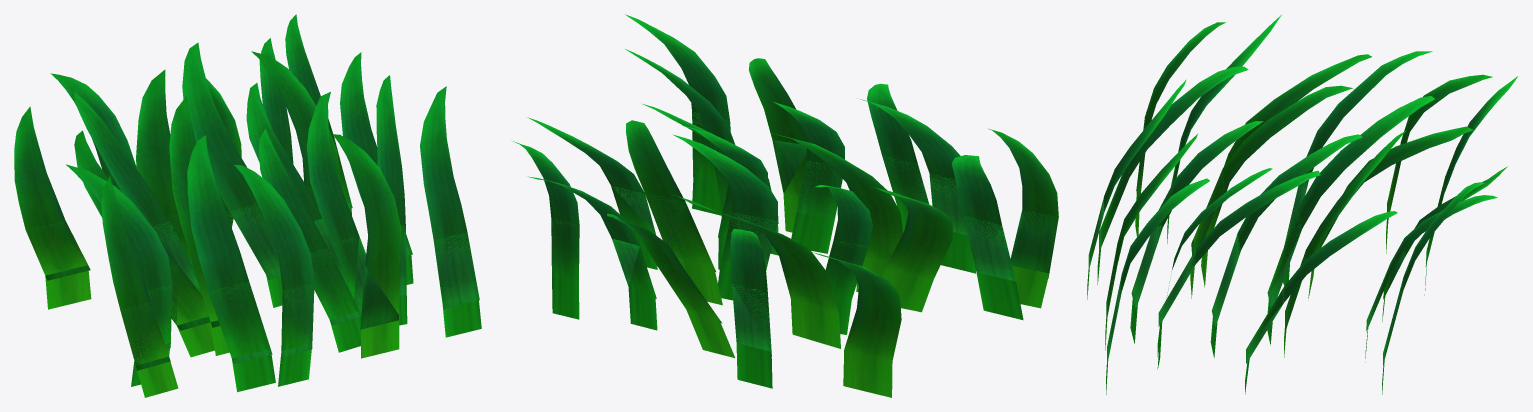
File: Lawn.fbx
3 views of the same model, side by side, from view 1: azimuth 30°, elevation 25°; view 2: azimuth 150°, elevation 25°; view 3: azimuth 270°, elevation 25° (orthographic). The views are drawn at different scales.
Visible parts, largest first — view 1: base__MI_Lawn_01, cut__MI_Lawn_01; view 2: base__MI_Lawn_01, cut__MI_Lawn_01; view 3: base__MI_Lawn_01, cut__MI_Lawn_01.
Part boxes in pixels (bbox=[...]): base__MI_Lawn_01: bbox=[14, 14, 481, 397]; cut__MI_Lawn_01: bbox=[27, 140, 479, 370]; base__MI_Lawn_01: bbox=[512, 14, 1058, 397]; cut__MI_Lawn_01: bbox=[551, 112, 1058, 356]; base__MI_Lawn_01: bbox=[1087, 14, 1517, 394]; cut__MI_Lawn_01: bbox=[1088, 119, 1444, 365].
Bounding box in the file's own units: 1.72 × 0.9509 × 1.63.
